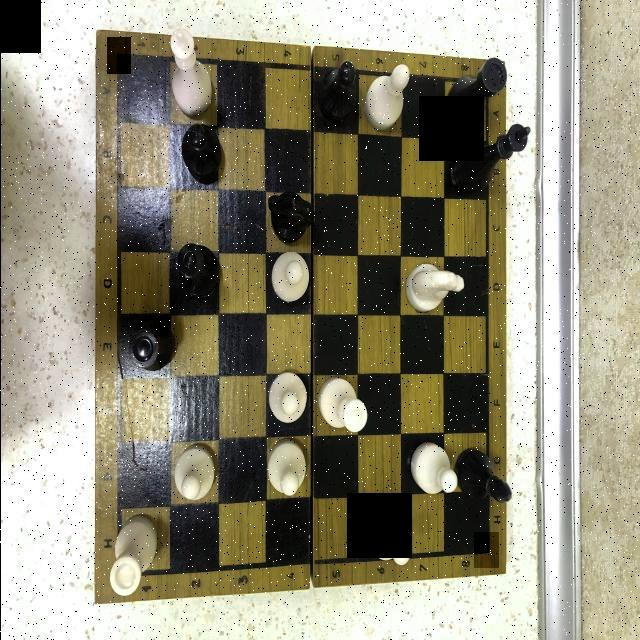chess-table-corners: (473, 532, 498, 568), (106, 37, 130, 74)
